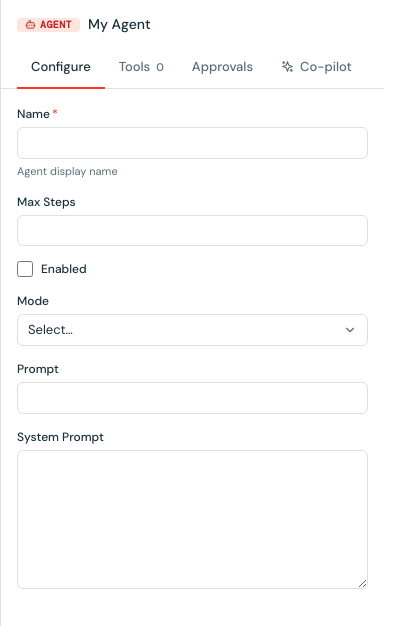
ConfigPanel › renders the Approvals tab with timeout and broker for an agent
The width and height of the screenshot is (401, 643).
Step 1. Click the button "Approvals" → coordinates (222, 68), box [178,47,267,88]
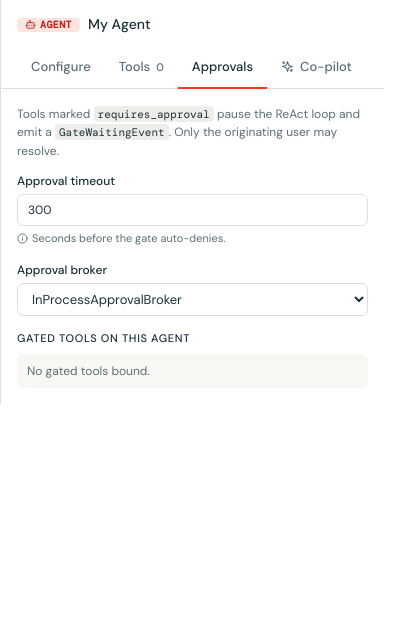
Check: the text "Approval timeout" is shown, box [17,173,115,189]
Check: the text "Approval broker" is shown, box [17,262,107,278]
Check: the text "No gated tools bound." is shown, box [17,354,368,388]
